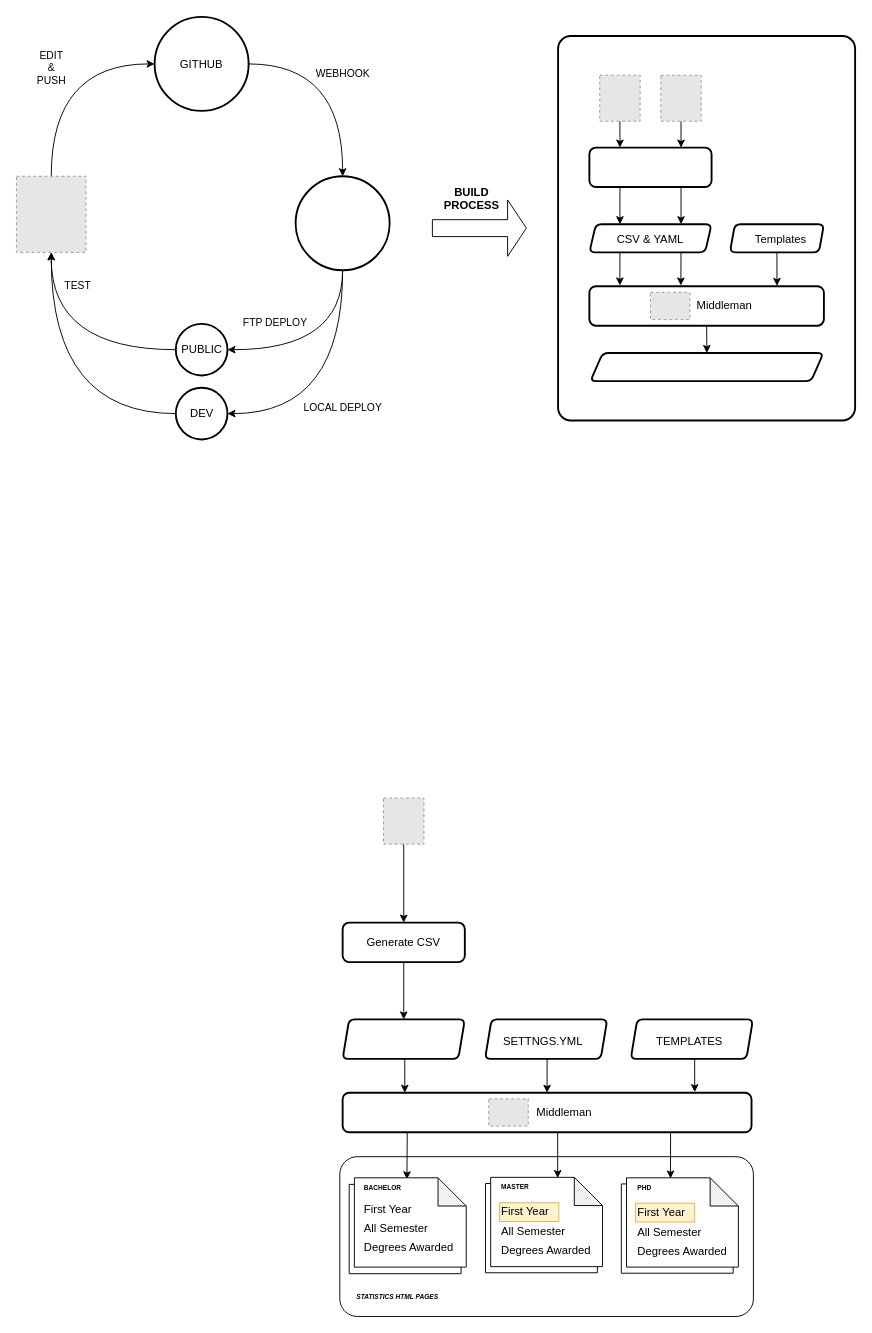
The diagram is 872 pixels wide and 1333 high, and some of its shapes have lost their labels. Grey dashed boxes stand in for pictures. The centre of each missing label's shape, as x and y in pixels:
CSV: point 403,1038
HTML: point 706,367
Parse and Extract: point 650,167
USI SERVER BUILD: point 342,223
